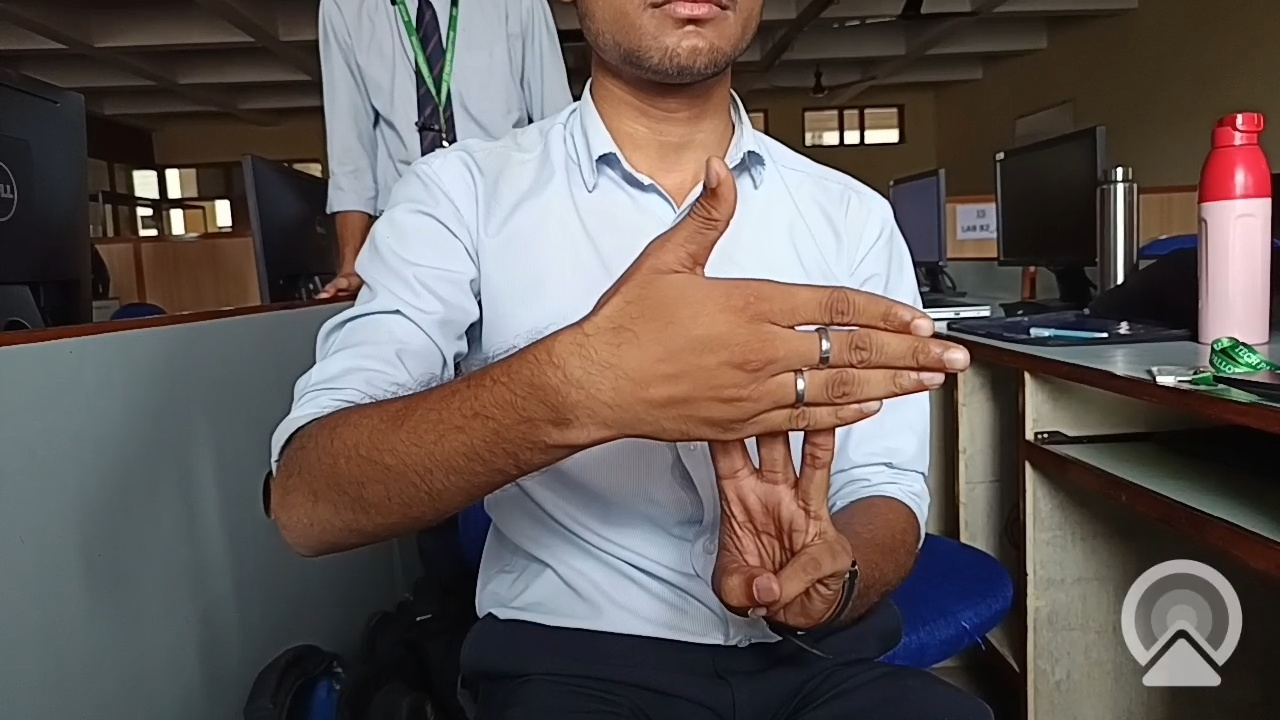M: (553, 140, 993, 670)
